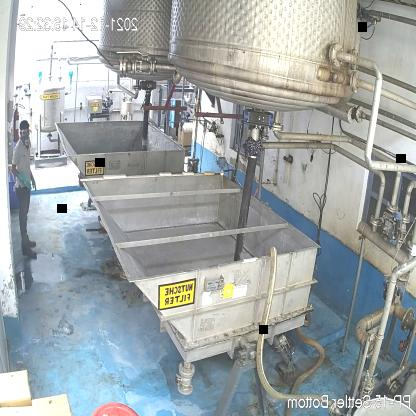goggles: (19, 126, 33, 140)
mask: (20, 135, 31, 148)
